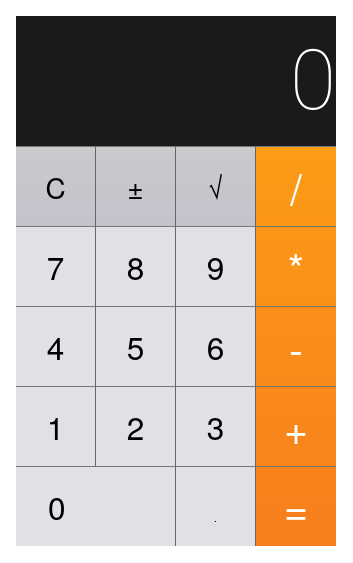
Test: Calculator Tests › should convert to a negative if number is subtracted from 0
This screenshot has width=353, height=563.
expect the button with class "key-0" is shown: met, box left=16, top=466, right=176, bottom=546
Click the button with class "key-subtract" at (296, 346), box left=256, top=306, right=336, bottom=386
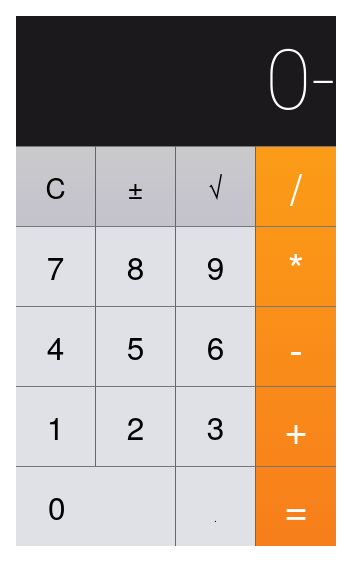
Click the button with class "key-5" at (136, 346), box left=96, top=306, right=176, bottom=386
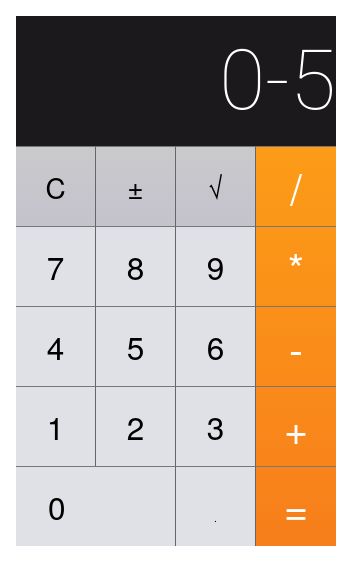
Click the button with class "key-equals" at (296, 506), box left=256, top=466, right=336, bottom=546
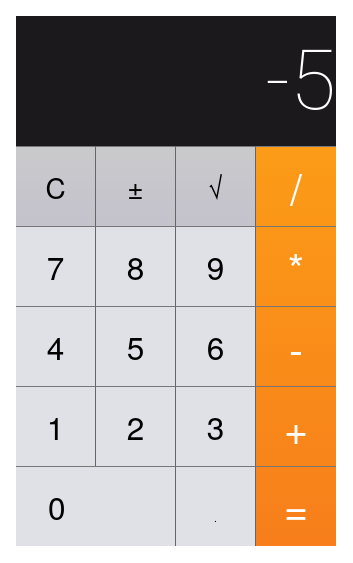
expect the text with class "calculator-display" reads "-5": met, box left=16, top=16, right=336, bottom=146
